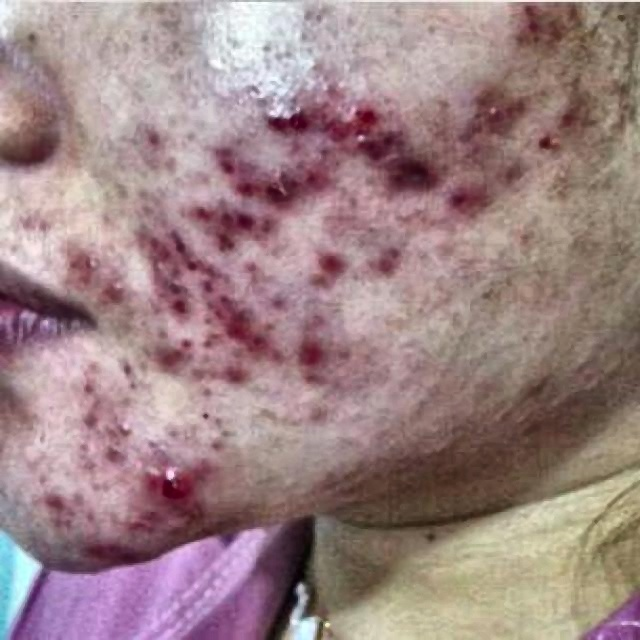nodule: (388, 156, 460, 204), (201, 134, 254, 186), (86, 538, 132, 580), (281, 342, 334, 378), (480, 79, 522, 124), (334, 90, 388, 124), (34, 482, 76, 525), (298, 156, 348, 192), (178, 252, 222, 290), (220, 295, 258, 339), (136, 333, 185, 367), (147, 461, 195, 495), (311, 96, 342, 145), (361, 124, 415, 152), (260, 175, 306, 205), (74, 372, 112, 408), (92, 444, 130, 478), (445, 177, 480, 213), (202, 218, 244, 248), (304, 252, 348, 280), (182, 194, 225, 222), (204, 360, 244, 390), (147, 254, 178, 292), (144, 226, 182, 256), (132, 497, 162, 535), (82, 410, 111, 446), (258, 102, 288, 136), (227, 203, 264, 230), (367, 252, 401, 277), (107, 271, 132, 303), (239, 252, 267, 280), (67, 237, 90, 269), (157, 292, 180, 324), (195, 292, 218, 322), (288, 98, 308, 130), (270, 294, 294, 316)
